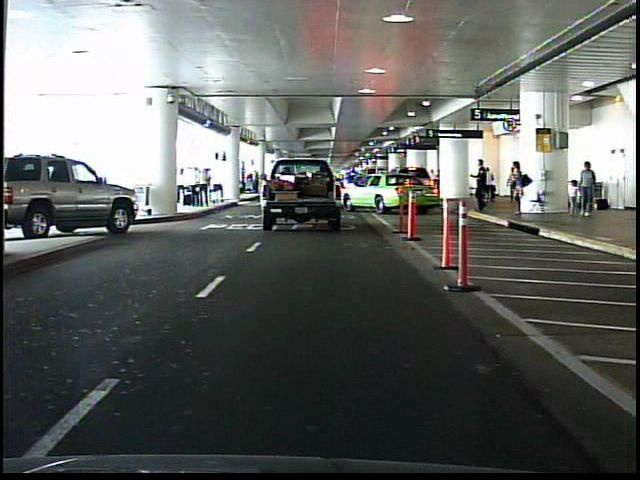person: (507, 155, 528, 217), (470, 155, 491, 214), (483, 160, 497, 210)
